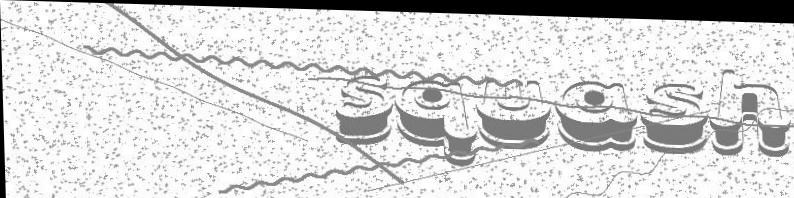a: (553, 76, 638, 149)
h: (708, 62, 792, 154)
q: (393, 75, 478, 165)
s: (638, 77, 708, 152), (333, 71, 394, 144)
u: (475, 74, 552, 148)
